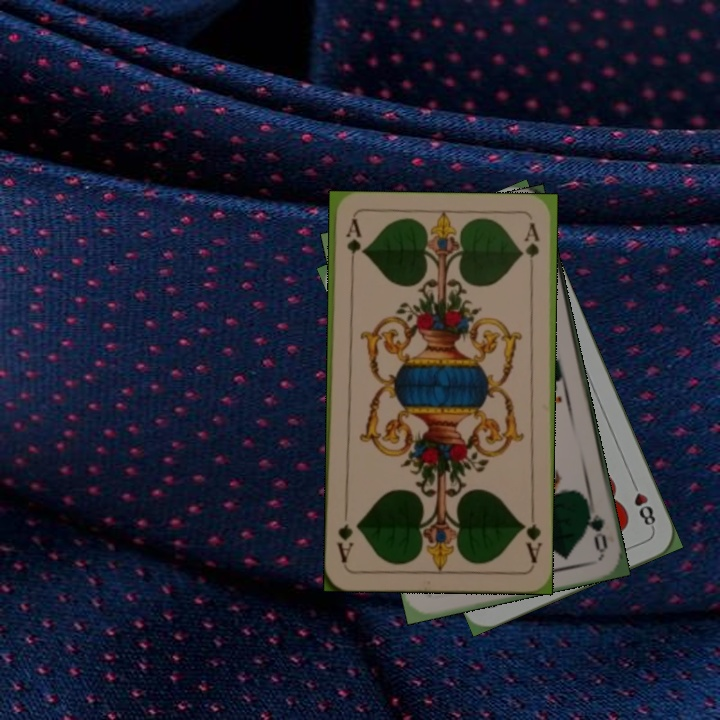GA: (517, 508, 544, 566), (341, 216, 363, 275)
GO: (582, 497, 611, 555)
H8: (627, 476, 658, 532)
